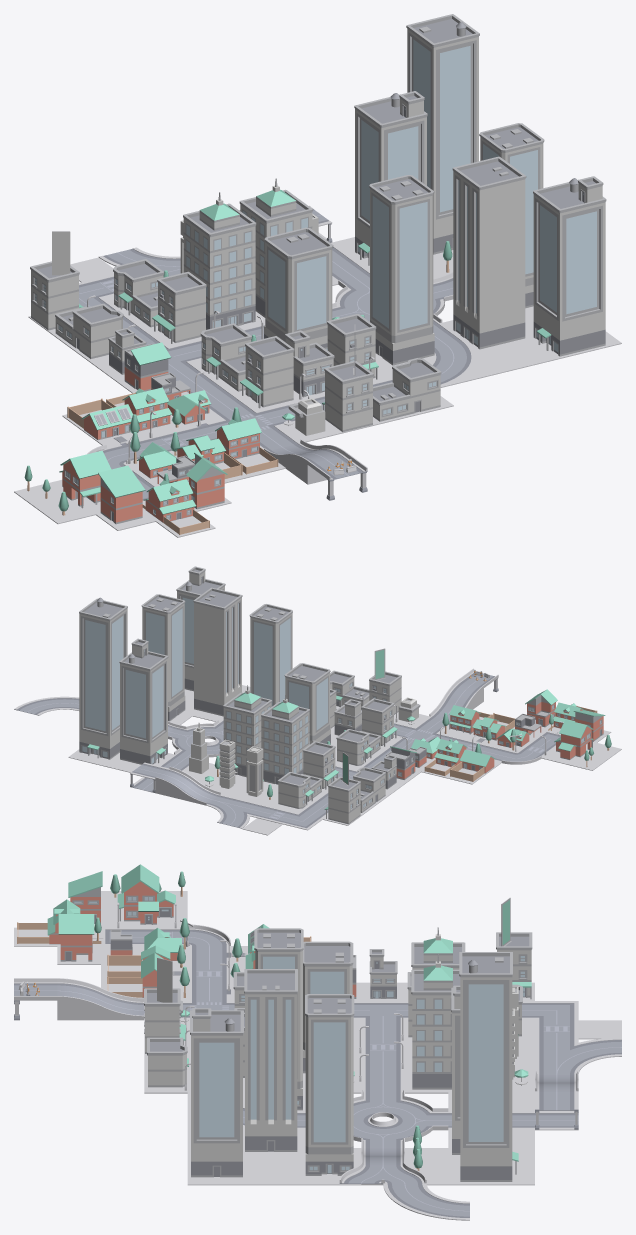
File: city.gltf
3 renders of one model, top to bottom at view 1: azimuth 30°, elevation 25°; view 2: azimuth 150°, elevation 25°; view 3: azimuth 270°, elevation 25°, orthographic. The views are drawn at different scales.
Parts seen in each view (by area): view 1: skyscraperF.001, skyscraperC.002, skyscraperB.001, skyscraperD.001, skyscraperE.001, skyscraperC.001, skyscraperA.001, skyscraperB.002, skyscraperE.002, small_buildingE.002, small_buildingD.001, small_buildingD.004 (+29 smaller); view 2: skyscraperD.001, skyscraperF.001, skyscraperC.001, skyscraperB.001, skyscraperB.002, skyscraperE.001, skyscraperA.001, skyscraperE.002, skyscraperC.002, small_buildingD.005, small_buildingE.003, small_buildingD.004 (+31 smaller); view 3: skyscraperD.001, skyscraperF.001, skyscraperB.002, skyscraperC.002, skyscraperE.002, road_roundabout, skyscraperA.001, skyscraperB.001, road_curveIntersection.001, house_type17.001, road_slantCurve.001, road_curve.001 (+42 smaller).
Boxes of the visible parts, bbox=[...] form: skyscraperF.001: bbox=[452, 156, 526, 349]; skyscraperC.002: bbox=[533, 176, 606, 356]; skyscraperB.001: bbox=[369, 175, 434, 365]; skyscraperD.001: bbox=[406, 14, 479, 254]; skyscraperE.001: bbox=[183, 192, 256, 329]; skyscraperC.001: bbox=[354, 91, 427, 265]; skyscraperA.001: bbox=[264, 227, 333, 350]; skyscraperB.002: bbox=[479, 123, 544, 308]; skyscraperE.002: bbox=[239, 178, 312, 317]; small_buildingE.002: bbox=[373, 358, 441, 421]; small_buildingD.001: bbox=[240, 336, 294, 408]; small_buildingD.004: bbox=[152, 271, 206, 343]; skyscraperD.001: bbox=[79, 597, 127, 759]; skyscraperF.001: bbox=[193, 587, 242, 716]; skyscraperC.001: bbox=[119, 638, 168, 764]; skyscraperB.001: bbox=[249, 604, 292, 706]; skyscraperB.002: bbox=[141, 594, 185, 721]; skyscraperE.001: bbox=[261, 694, 309, 784]; skyscraperA.001: bbox=[284, 663, 330, 744]; skyscraperE.002: bbox=[223, 685, 272, 777]; skyscraperC.002: bbox=[176, 566, 225, 691]; small_buildingD.005: bbox=[324, 776, 360, 824]; small_buildingE.003: bbox=[277, 772, 322, 808]; small_buildingD.004: bbox=[302, 741, 338, 789]; skyscraperD.001: bbox=[459, 952, 518, 1181]; skyscraperF.001: bbox=[244, 969, 297, 1151]; skyscraperB.002: bbox=[305, 994, 354, 1175]; skyscraperC.002: bbox=[190, 1008, 243, 1177]; skyscraperE.002: bbox=[411, 954, 460, 1089]; road_roundabout: bbox=[353, 1092, 448, 1148]; skyscraperA.001: bbox=[303, 941, 353, 1073]; skyscraperB.001: bbox=[254, 928, 303, 1110]; road_curveIntersection.001: bbox=[535, 1037, 621, 1074]; house_type17.001: bbox=[117, 864, 175, 924]; road_slantCurve.001: bbox=[57, 982, 144, 1020]; road_curve.001: bbox=[383, 1183, 469, 1220].
Bounding box in the file's own units: 19 × 5.54 × 14.
